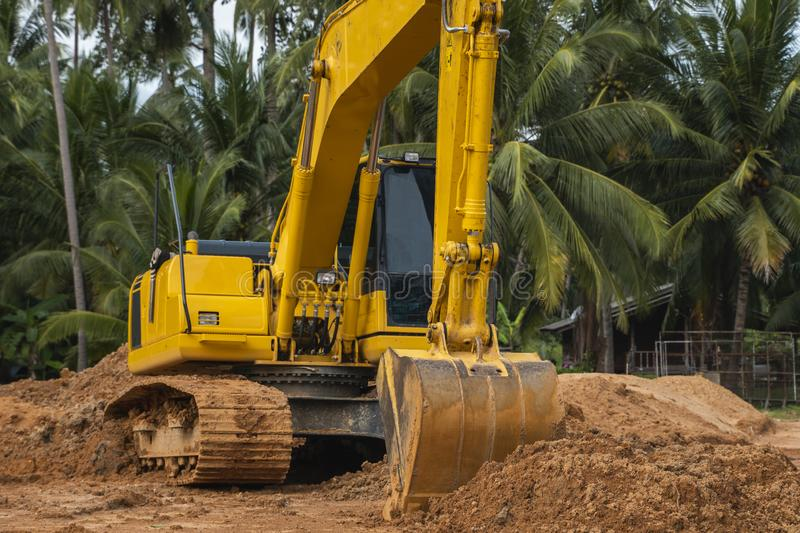excavator: (99, 1, 583, 498)
